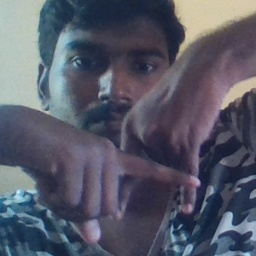H: (95, 94, 214, 247)
